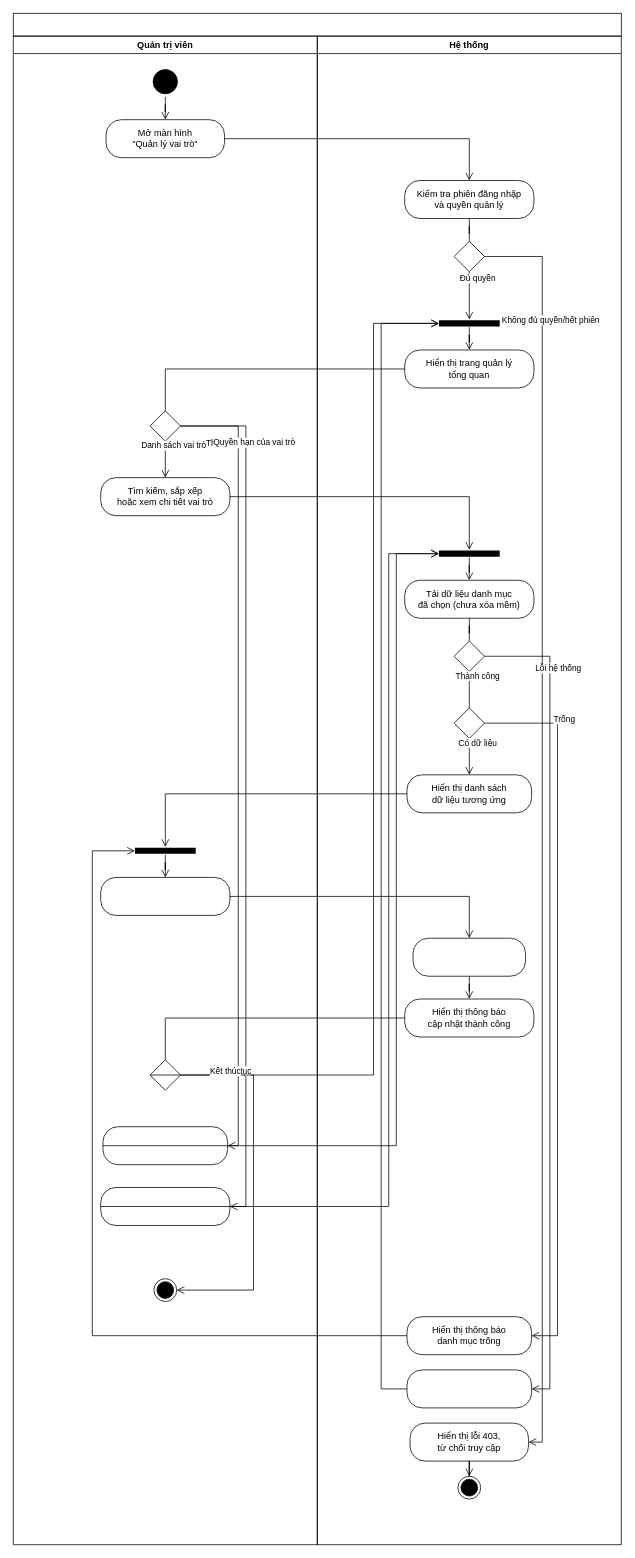
Image size: 635x1558. Some labels were removed from this diagram. The centre of each missing label's shape, as x and y in pixels:
Cập nhật dữ liệu tương ứng: point (469, 956)
Hiển thị thông báo lỗi tải dữ liệu: point (469, 1388)
QUẢN LÝ VAI TRÒ: point (317, 24)
Thêm hoặc xóa quyền hạn được gán cho vai trò: point (165, 1206)
Thêm mới, sửa hoặc xóa vai trò: point (165, 1145)
Thực hiện thao tác (xem/thêm/sửa/xóa/khác): point (165, 896)
